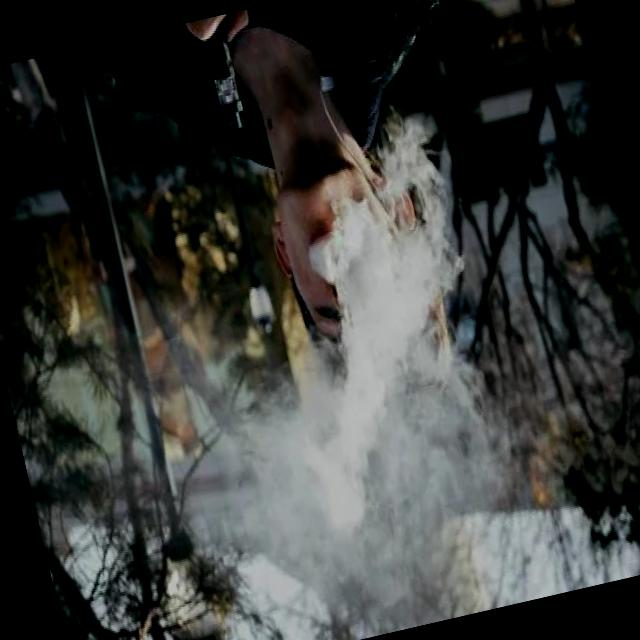cigarette: (193, 13, 256, 142)
